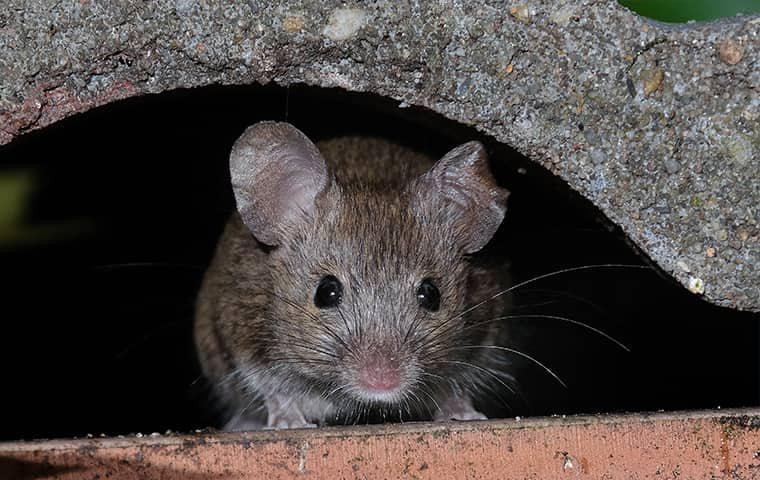rat: (198, 120, 507, 432)
